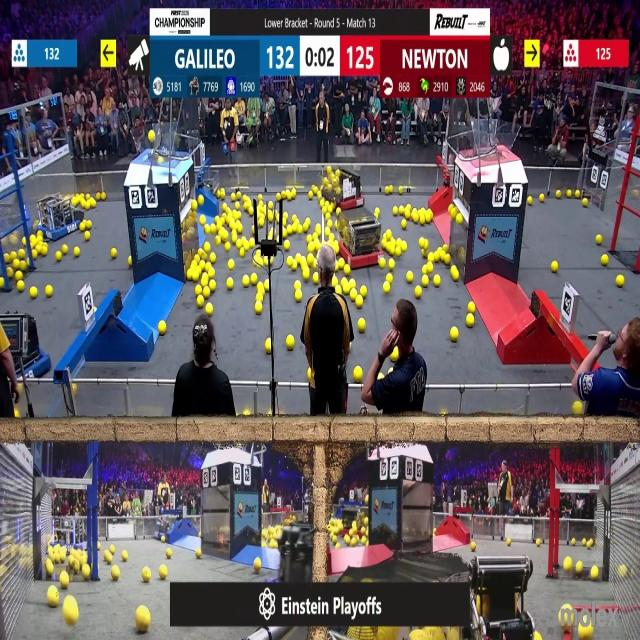ball_airborne: (148, 131, 154, 143)
ball_ground: (136, 609, 150, 635), (64, 601, 78, 626), (47, 587, 58, 607), (61, 572, 70, 588), (572, 403, 582, 417), (142, 567, 151, 582), (451, 326, 459, 341), (161, 565, 169, 579), (354, 366, 362, 380), (591, 566, 599, 580), (111, 566, 119, 580), (452, 268, 460, 282), (564, 558, 572, 572), (45, 562, 53, 575), (266, 340, 273, 354), (286, 337, 293, 351), (82, 565, 89, 579), (194, 284, 202, 296), (574, 562, 582, 574), (466, 314, 473, 327), (160, 321, 167, 334), (253, 558, 260, 571), (391, 349, 398, 362), (205, 305, 213, 316), (254, 304, 262, 315), (197, 295, 205, 306), (343, 284, 351, 295), (618, 275, 625, 287), (226, 278, 233, 290), (44, 285, 51, 297), (16, 280, 23, 292), (105, 552, 112, 564), (386, 242, 393, 254), (237, 222, 245, 232), (202, 273, 210, 283), (220, 232, 228, 242), (358, 319, 364, 332), (243, 276, 250, 287), (467, 303, 474, 314), (356, 296, 363, 307), (308, 253, 315, 264), (203, 286, 210, 297), (380, 257, 387, 268), (444, 253, 451, 264), (7, 269, 14, 280), (425, 211, 432, 222), (18, 263, 25, 274), (416, 286, 422, 298), (408, 272, 414, 284), (313, 274, 319, 286), (251, 274, 257, 286), (304, 269, 310, 281), (200, 262, 208, 271), (552, 263, 559, 273), (210, 252, 217, 262), (433, 276, 440, 286), (331, 277, 338, 287), (388, 261, 395, 271), (596, 236, 603, 246), (349, 288, 356, 298), (191, 272, 198, 282), (200, 249, 207, 259), (602, 254, 608, 265), (360, 286, 366, 297), (294, 290, 300, 301), (31, 287, 37, 298), (210, 280, 216, 291), (422, 276, 428, 287), (344, 266, 350, 277), (232, 232, 238, 243), (450, 207, 456, 218), (420, 267, 428, 275), (386, 274, 393, 283), (427, 265, 434, 274), (394, 247, 401, 256), (308, 244, 315, 253), (235, 210, 242, 219), (362, 576, 371, 583), (74, 247, 80, 257), (284, 241, 290, 251), (227, 261, 233, 271), (121, 552, 127, 562), (110, 248, 116, 258), (195, 549, 201, 559), (384, 283, 390, 293), (186, 271, 192, 281), (57, 251, 63, 261), (167, 549, 173, 559), (84, 232, 90, 242), (294, 280, 300, 290), (265, 281, 271, 291), (286, 256, 292, 266), (337, 285, 343, 295), (208, 270, 214, 280), (264, 255, 270, 265), (236, 202, 242, 212), (304, 222, 310, 232), (339, 258, 345, 268), (456, 214, 462, 224), (269, 212, 275, 222), (413, 212, 419, 222), (4, 254, 10, 264), (335, 244, 341, 254), (244, 202, 250, 212), (199, 198, 205, 208), (288, 189, 294, 199), (255, 293, 262, 301), (349, 280, 356, 288), (533, 633, 541, 640), (420, 248, 427, 256), (361, 537, 368, 545), (244, 411, 251, 419), (291, 264, 297, 273), (15, 271, 21, 280), (42, 247, 48, 256), (249, 239, 255, 248), (420, 239, 426, 248), (205, 243, 211, 252), (282, 230, 288, 239), (32, 250, 38, 259), (420, 215, 426, 224), (18, 250, 24, 259), (250, 224, 256, 233), (342, 278, 348, 287), (407, 210, 413, 219), (428, 252, 434, 261), (296, 224, 302, 233), (23, 238, 29, 247), (211, 223, 217, 232), (224, 242, 229, 252), (308, 367, 313, 377), (401, 242, 406, 252), (434, 252, 439, 262), (244, 239, 249, 249), (31, 238, 36, 248), (295, 254, 301, 262), (258, 218, 264, 226), (583, 200, 589, 208), (13, 412, 19, 420), (237, 241, 243, 249), (566, 189, 572, 197), (110, 544, 116, 552), (87, 220, 93, 228), (269, 202, 275, 210), (270, 256, 276, 264), (221, 204, 227, 212), (269, 234, 275, 242), (291, 215, 297, 223), (272, 540, 278, 548), (539, 192, 544, 201), (470, 541, 475, 550), (557, 189, 562, 198), (216, 237, 221, 246), (316, 223, 321, 232), (315, 241, 320, 250), (249, 207, 254, 216), (327, 226, 332, 235), (398, 207, 403, 216), (387, 231, 392, 240), (287, 224, 292, 233), (276, 213, 281, 222), (0, 278, 4, 289), (308, 236, 314, 243), (63, 246, 68, 254), (574, 190, 579, 198), (201, 215, 205, 225), (309, 191, 314, 199), (92, 200, 97, 208), (277, 192, 282, 200), (376, 208, 381, 216), (571, 537, 576, 545), (205, 224, 210, 232), (319, 200, 324, 208), (232, 192, 237, 200), (444, 244, 449, 252), (351, 537, 356, 545), (346, 536, 351, 544), (215, 216, 220, 224), (129, 256, 133, 265), (401, 219, 405, 228), (393, 207, 397, 216), (80, 221, 84, 230), (255, 249, 260, 256), (162, 535, 167, 542), (282, 218, 287, 225), (337, 208, 342, 215), (313, 234, 318, 241), (326, 220, 331, 227), (328, 234, 333, 241), (327, 207, 332, 214), (257, 193, 262, 200), (241, 248, 245, 256), (528, 198, 532, 206), (98, 542, 102, 550), (100, 194, 104, 202), (506, 537, 510, 545), (408, 205, 413, 211), (536, 539, 540, 546), (385, 186, 389, 193), (322, 208, 326, 215), (283, 212, 287, 219), (364, 496, 368, 503), (200, 534, 203, 539)
goal: (465, 124, 521, 160), (128, 131, 188, 161)
robot_blue: (0, 311, 51, 380), (38, 192, 82, 241), (155, 515, 180, 541)
robot_red: (467, 553, 535, 640), (336, 209, 382, 268), (321, 165, 366, 208)
